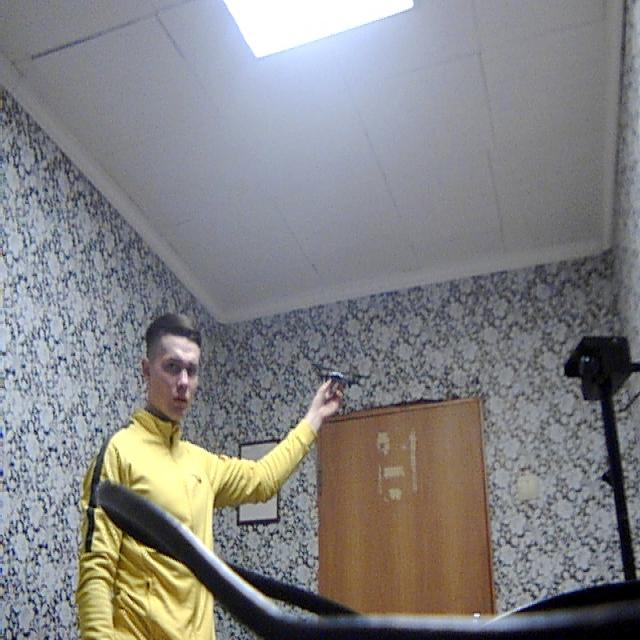drone: (307, 351, 368, 392)
